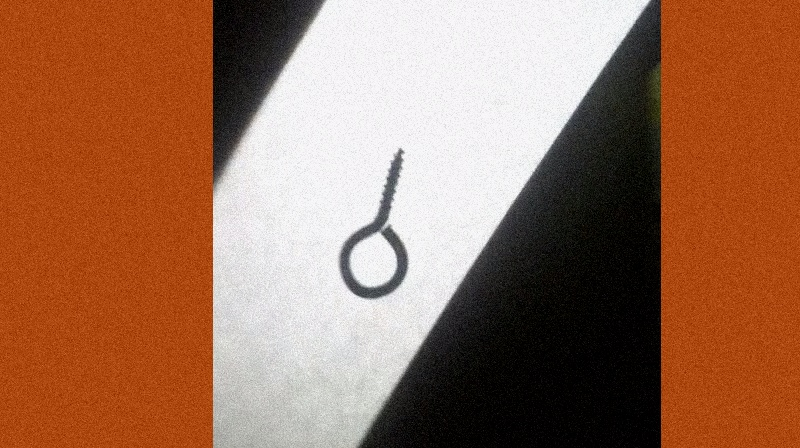O001: (335, 143, 411, 301)
